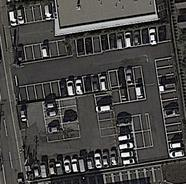parkingspot: (75, 24, 171, 58), (155, 56, 186, 161), (17, 72, 111, 106), (31, 149, 121, 181), (38, 164, 165, 184), (14, 38, 69, 65), (7, 2, 56, 28), (115, 115, 139, 166), (94, 91, 118, 138), (58, 97, 81, 141), (42, 100, 65, 143), (108, 65, 144, 89), (111, 82, 147, 106), (140, 113, 155, 149), (131, 114, 146, 150)
